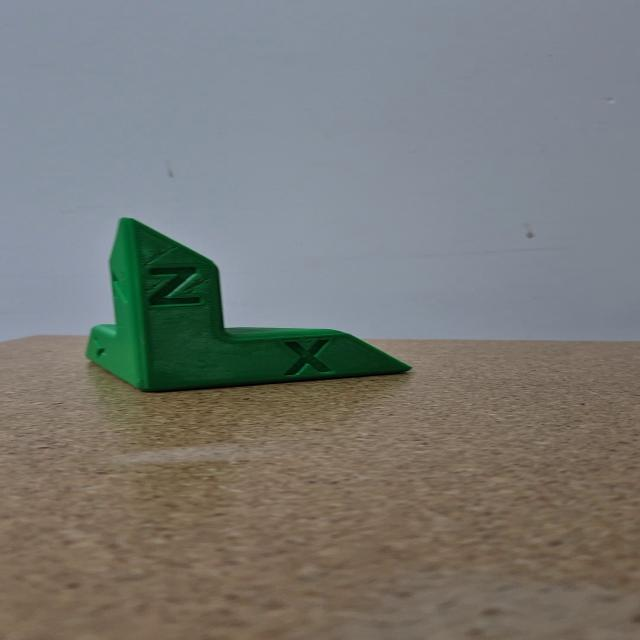objects: (79, 212, 417, 396)
